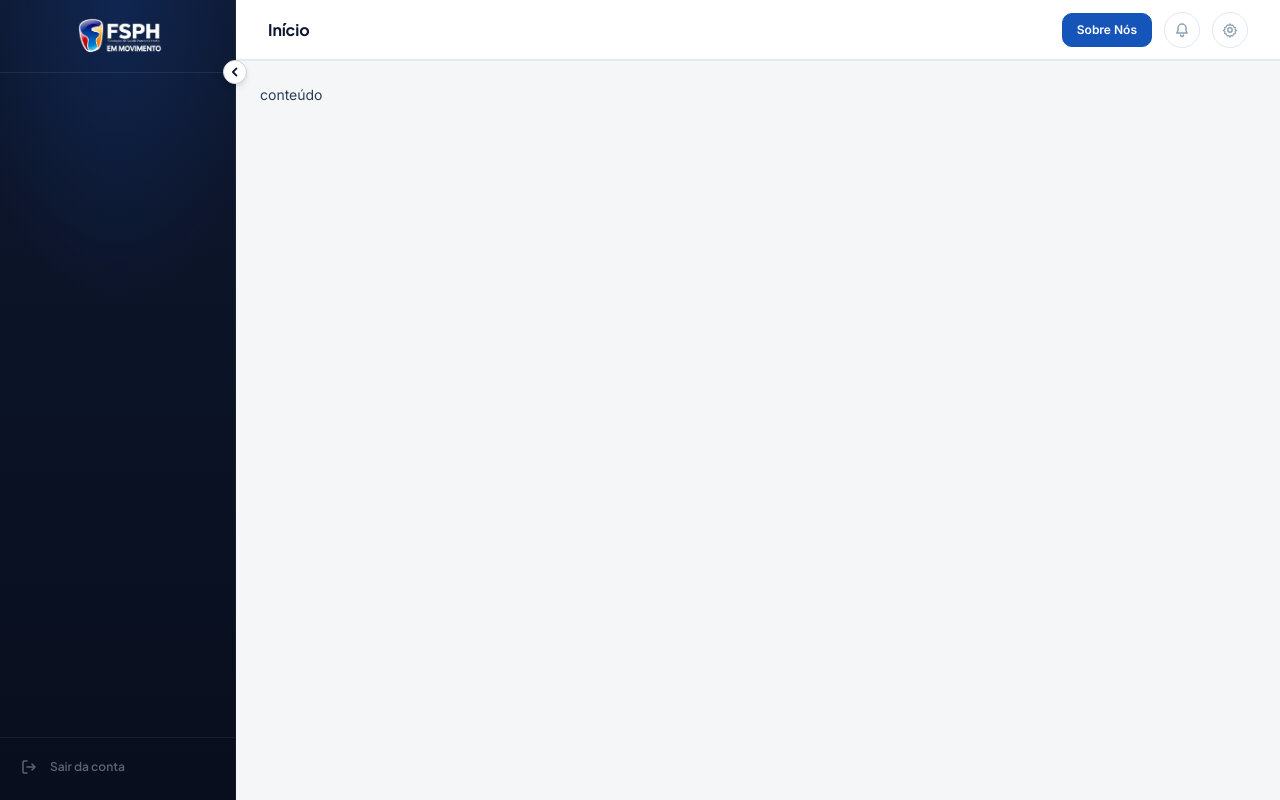
it: AppLayout - cabeçalho › a engrenagem abre o modal de preferências sem abrir o dropdown do sino
The image size is (1280, 800).
Click the button named "preferências e permissões" at (1230, 30), box left=1212, top=12, right=1248, bottom=48
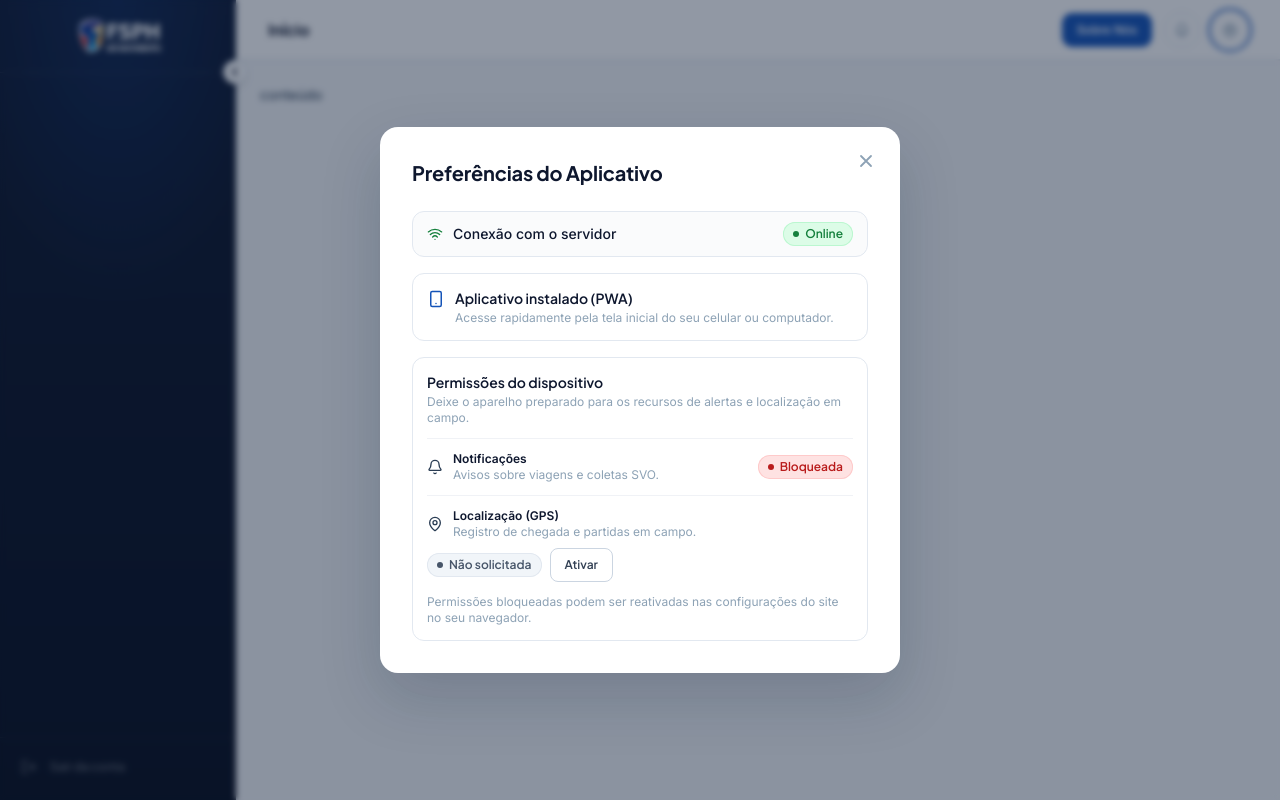
Now the heading "Preferências do Aplicativo" is shown, box left=412, top=160, right=662, bottom=185
